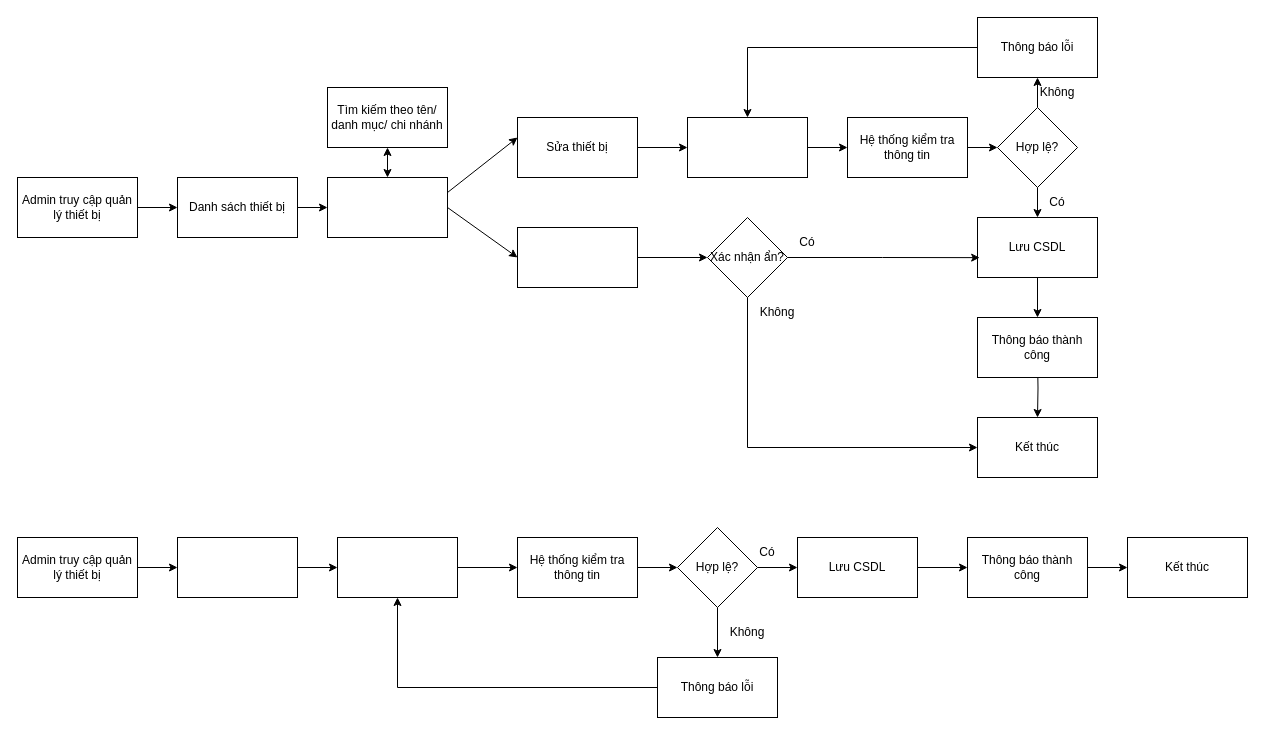
The diagram is 1265 pixels wide and 735 high, and some of its shapes have lost their labels. Here are the shapes that lost their labels. From the top down, the centre of each, then its label:
At point (747, 147): "Nhập thông tin".
At point (387, 207): "Hệ thống hiển thị danh sách thiết bị".
At point (577, 257): "Ẩn thiết bị".
At point (237, 567): "Tạo thiết bị".
At point (397, 567): "Nhập thông tin, chọn chi nhánh".
